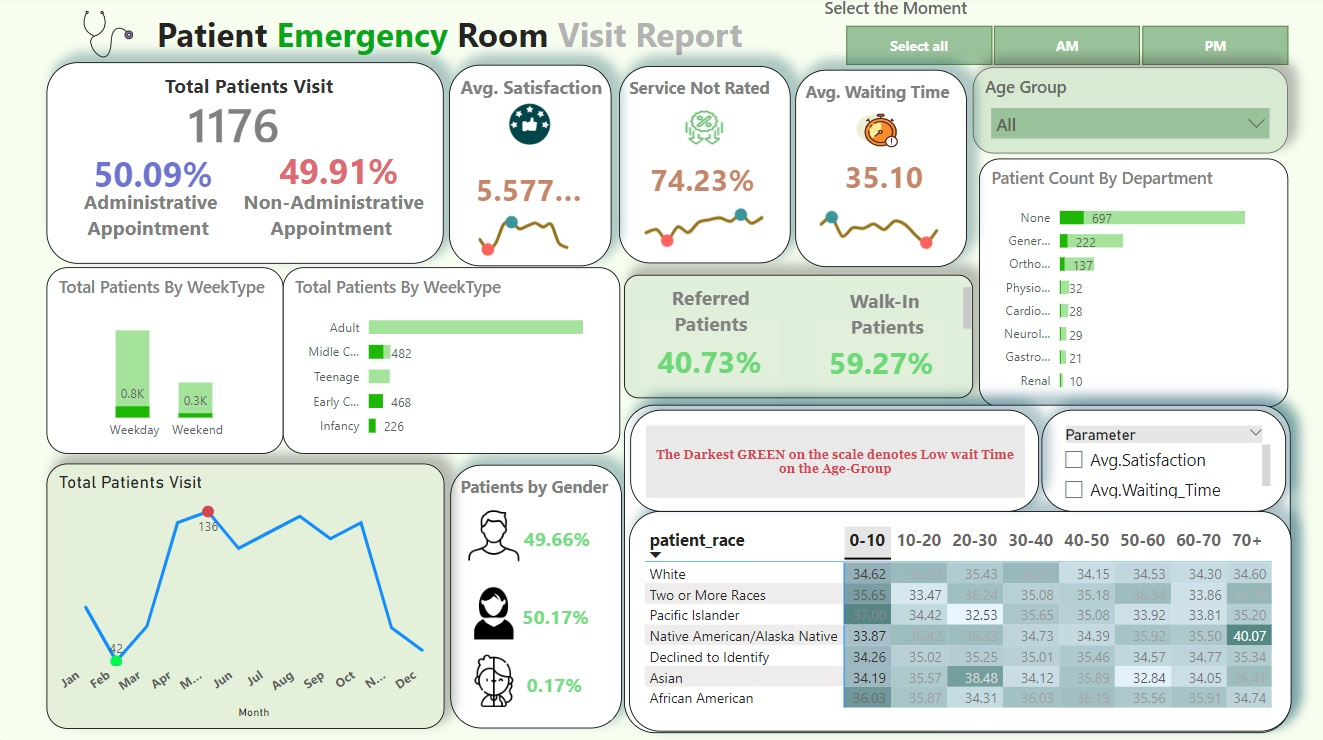

What the dashboard file says about the page in this screenshot:
{"tool":"powerbi","page":{"name":"Overview","canvas":[1280,720],"ordinal":0},"visuals":[{"type":"shape","box":[46,63.4,382.9,194.3],"z":0,"group":"g2"},{"type":"shape","title":"Avg. Satisfaction","box":[433.8,66.4,157.1,194.3],"z":0,"group":"g8"},{"type":"shape","title":"Service Not Rated","box":[597.6,67.8,165.7,190],"z":0,"group":"g5"},{"type":"group","id":"g1","title":"Group 5","box":[768.5,70.6,167.1,190],"z":0,"group":"g6"},{"type":"shape","title":"Avg. Waiting Time","box":[768.5,70.6,165.7,190],"z":0,"group":"g1"},{"type":"shape","box":[603,268.7,336.4,119.5],"z":0},{"type":"textbox","box":[608.7,273.3,155.7,60],"z":0,"group":"g7"},{"type":"shape","box":[603.5,394.8,642.9,317.1],"z":0,"group":"g3"},{"type":"cardVisual","fields":{"Data":["Measures Table.% Male Visits"]},"box":[488.5,498.3,100,51.4],"z":0,"group":"g4"},{"type":"image","box":[486.7,99.3,50,50],"z":1000,"group":"g8"},{"type":"image","box":[822.8,106.3,50,45],"z":1000,"group":"g6"},{"type":"cardVisual","fields":{"Data":["Measures Table.% Administration schedule"]},"box":[64,129,169.2,68.1],"z":1000,"group":"g2"},{"type":"cardVisual","fields":{"Data":["Measures Table.Average Patient Waiting Time"]},"box":[772.8,142,162.9,58.6],"z":1000,"group":"g1"},{"type":"cardVisual","fields":{"Data":["Measures Table.% No_Rating"]},"box":[613.3,144.9,130,57.1],"z":1000,"group":"g5"},{"type":"cardVisual","fields":{"Data":["Measures Table.% Referral Patients"]},"box":[618.8,309,134.3,82.9],"z":1000,"group":"g7"},{"type":"shape","title":"Patients by Gender","box":[435.6,452.1,165.7,254.3],"z":1000},{"type":"pivotTable","fields":{"Rows":["Hospital ER (Patient Datasets).patient_race"],"Columns":["Hospital ER (Patient Datasets).Age Bucket"],"Values":["Measures Table.Average Patient Waiting Time"]},"box":[608,497.2,638.8,213],"z":1000,"group":"g3"},{"type":"cardVisual","fields":{"Data":["Measures Table.% Female Visits"]},"box":[487.1,572.6,100,51.4],"z":1000,"group":"g4"},{"type":"image","box":[644.7,100.7,70,54.3],"z":2000,"group":"g5"},{"type":"cardVisual","fields":{"Data":["Measures Table.% Non_Administration schedule"]},"box":[255.5,125.2,144.3,77],"z":2000,"group":"g2"},{"type":"cardVisual","fields":{"Data":["Measures Table.Average Statisfaction Score"]},"box":[441.4,155,130,57.1],"z":2000,"group":"g8"},{"type":"PBI_CV_25997FEB_F466_44FA_B562_AC4063283C4C","fields":{"axis":["Date.Month"],"measure":["Measures Table.Average Patient Waiting Time"]},"box":[773.3,193.6,155.6,56.7],"z":2000,"group":"g1"},{"type":"cardVisual","fields":{"Data":["Measures Table.% Un Referral Patients"]},"box":[788,309.4,125.1,86.2],"z":2000,"group":"g7"},{"type":"slicer","fields":{"Values":["Parameter.Value1"]},"box":[1006.8,399.4,235.7,98.6],"z":2000,"group":"g3"},{"type":"lineChart","title":"Total Patients Visit by Year","fields":{"Category":["Date.Year"],"Y":["Measures Table.Total Patient Count"]},"box":[905.6,506.4,277.1,205.7],"z":2000},{"type":"cardVisual","fields":{"Data":["Measures Table.% Others Gender Visits"]},"box":[485.7,639.8,100,51.4],"z":2000,"group":"g4"},{"type":"cardVisual","fields":{"Data":["Measures Table.Total Patient Count"]},"box":[140.3,67.2,173.4,84.5],"z":3000,"group":"g2"},{"type":"PBI_CV_25997FEB_F466_44FA_B562_AC4063283C4C","fields":{"axis":["Date.Month"],"measure":["Measures Table.% No_Rating"]},"box":[603.3,192.1,155.7,57.1],"z":3000,"group":"g5"},{"type":"PBI_CV_25997FEB_F466_44FA_B562_AC4063283C4C","fields":{"axis":["Date.Month"],"measure":["Measures Table.Total Patient Count"]},"box":[443.2,199.2,127.9,58.4],"z":3000,"group":"g8"},{"type":"textbox","box":[778.3,276.1,164,54.2],"z":3000,"group":"g7"},{"type":"cardVisual","fields":{"Data":["Measures Table.HeatMap_Caption"]},"box":[609.6,399.4,394.3,98.6],"z":3000,"group":"g3"},{"type":"lineChart","title":"Total Patients Visit","fields":{"Category":["Date.Month"],"Y":["Measures Table.Total Patient Count","Measures Table.Values Max Point (Month)"]},"box":[45.6,450.6,384.3,255.7],"z":3000},{"type":"image","box":[447.1,491.2,60,60],"z":3000,"group":"g4"},{"type":"slicer","title":"Select the Moment","fields":{"Values":["Hospital ER (Patient Datasets).Moment"]},"box":[791,0,476.8,73.7],"z":4000},{"type":"textbox","box":[57.7,180.2,176.8,61.8],"z":4000,"group":"g2"},{"type":"image","box":[447.1,565.5,60,60],"z":4000,"group":"g4"},{"type":"slicer","title":"Age Group","fields":{"Values":["Hospital ER (Patient Datasets).Age Group"]},"box":[939.9,69.2,304.3,82.9],"z":5000},{"type":"textbox","box":[217,180.2,211.9,61.8],"z":5000,"group":"g2"},{"type":"image","box":[447.1,631.2,60,60],"z":5000,"group":"g4"},{"type":"textbox","box":[66.8,68.4,349.6,41.6],"z":6000,"group":"g2"},{"type":"clusteredBarChart","title":"Patient Count By Department","fields":{"Y":["Measures Table.Total Patient Count"],"Category":["Hospital ER (Patient Datasets).department_referral"]},"box":[945.6,156.4,298.6,240],"z":6000},{"type":"group","id":"g2","title":"Group 1","box":[46,63.4,382.9,194.3],"z":7000},{"type":"image","box":[63.9,0,83.4,73.7],"z":8000},{"type":"textbox","box":[147.1,10,715.7,62.9],"z":9000},{"type":"columnChart","title":"Total Patients By WeekType","fields":{"Category":["Date.Weektype"],"Y":["Measures Table.Total Patient Count"]},"box":[45.6,262.1,228.6,180],"z":10000},{"type":"barChart","title":"Total Patients By WeekType","fields":{"Category":["Hospital ER (Patient Datasets).Age Group"],"Y":["Measures Table.Total Patient Count"]},"box":[274.2,262.1,325.7,180],"z":11000},{"type":"group","id":"g3","title":"Group 3","box":[603.5,394.8,643.4,317.1],"z":12000},{"type":"group","id":"g4","title":"Group 4","box":[447.1,491.2,141.4,200],"z":13000},{"type":"group","id":"g5","title":"Group 5","box":[597.6,67.8,165.7,190],"z":14000},{"type":"group","id":"g6","title":"Group 6","box":[768.5,70.6,167.1,190],"z":15000},{"type":"group","id":"g7","title":"Group 7","box":[608.7,273.3,333.6,122.3],"z":16000},{"type":"group","id":"g8","title":"Group 2","box":[433.8,66.4,157.1,194.3],"z":17000}]}

Visuals, with their boxes in screenshot pixels (x1, y1, x2, y2), scaled from the page's 1280x720 canvas onto the 1323x740 screenshot:
shape: [48, 65, 443, 265]
"Avg. Satisfaction" shape: [448, 68, 611, 268]
"Service Not Rated" shape: [618, 70, 789, 265]
"Group 5" group: [794, 73, 967, 268]
"Avg. Waiting Time" shape: [794, 73, 966, 268]
shape: [623, 276, 971, 399]
textbox: [629, 281, 790, 343]
shape: [624, 406, 1288, 732]
cardVisual - Measures Table.% Male Visits: [505, 512, 608, 565]
image: [503, 102, 555, 153]
image: [850, 109, 902, 156]
cardVisual - Measures Table.% Administration schedule: [66, 133, 241, 203]
cardVisual - Measures Table.Average Patient Waiting Time: [799, 146, 967, 206]
cardVisual - Measures Table.% No_Rating: [634, 149, 768, 208]
cardVisual - Measures Table.% Referral Patients: [640, 318, 778, 403]
"Patients by Gender" shape: [450, 465, 621, 726]
pivotTable - Hospital ER (Patient Datasets).patient_race x Hospital ER (Patient Datasets).Age Bucket: [628, 511, 1289, 730]
cardVisual - Measures Table.% Female Visits: [503, 589, 607, 641]
image: [666, 103, 739, 159]
cardVisual - Measures Table.% Non_Administration schedule: [264, 129, 413, 208]
cardVisual - Measures Table.Average Statisfaction Score: [456, 159, 591, 218]
PBI_CV_25997FEB_F466_44FA_B562_AC4063283C4C - Date.Month x Measures Table.Average Patient Waiting Time: [799, 199, 960, 257]
cardVisual - Measures Table.% Un Referral Patients: [814, 318, 944, 407]
slicer - Parameter.Value1: [1041, 410, 1284, 512]
"Total Patients Visit by Year" lineChart: [936, 520, 1222, 732]
cardVisual - Measures Table.% Others Gender Visits: [502, 658, 605, 710]
cardVisual - Measures Table.Total Patient Count: [145, 69, 324, 156]
PBI_CV_25997FEB_F466_44FA_B562_AC4063283C4C - Date.Month x Measures Table.% No_Rating: [624, 197, 784, 256]
PBI_CV_25997FEB_F466_44FA_B562_AC4063283C4C - Date.Month x Measures Table.Total Patient Count: [458, 205, 590, 265]
textbox: [804, 284, 974, 339]
cardVisual - Measures Table.HeatMap_Caption: [630, 410, 1038, 512]
"Total Patients Visit" lineChart: [47, 463, 444, 726]
image: [462, 505, 524, 567]
"Select the Moment" slicer: [818, 0, 1310, 76]
textbox: [60, 185, 242, 249]
image: [462, 581, 524, 643]
"Age Group" slicer: [971, 71, 1286, 156]
textbox: [224, 185, 443, 249]
image: [462, 649, 524, 710]
textbox: [69, 70, 430, 113]
"Patient Count By Department" clusteredBarChart: [977, 161, 1286, 407]
"Group 1" group: [48, 65, 443, 265]
image: [66, 0, 152, 76]
textbox: [152, 10, 892, 75]
"Total Patients By WeekType" columnChart: [47, 269, 283, 454]
"Total Patients By WeekType" barChart: [283, 269, 620, 454]
"Group 3" group: [624, 406, 1289, 732]
"Group 4" group: [462, 505, 608, 710]
"Group 5" group: [618, 70, 789, 265]
"Group 6" group: [794, 73, 967, 268]
"Group 7" group: [629, 281, 974, 407]
"Group 2" group: [448, 68, 611, 268]
